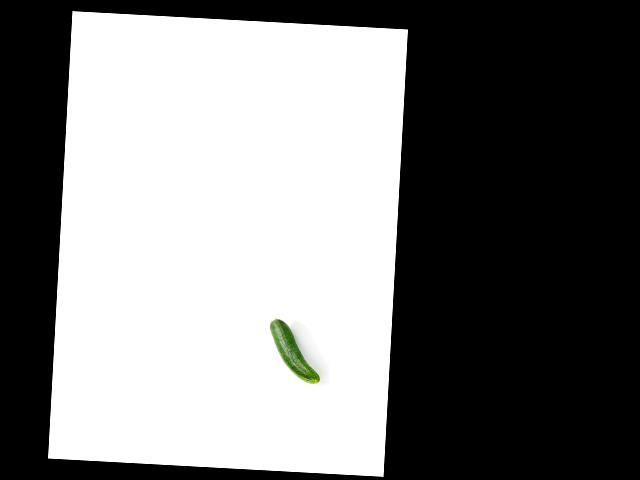cucumber: (267, 318, 323, 383)
